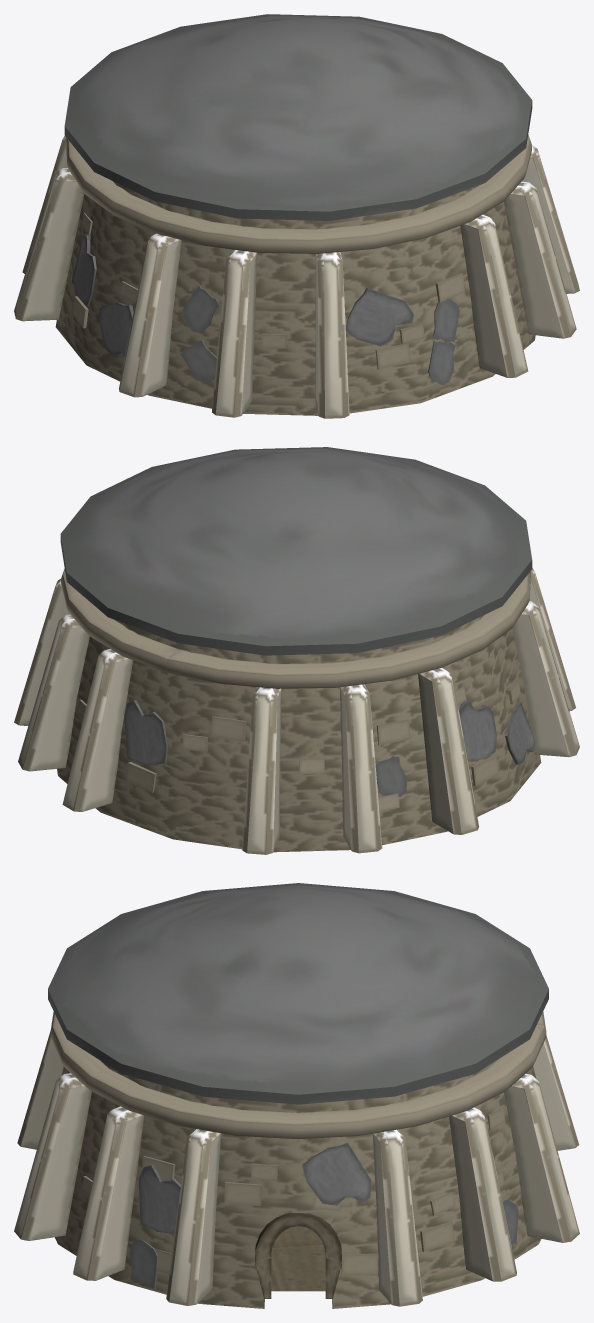
The model's file is hub.fbx.
3 views of the same model, one above another, from view 1: azimuth 30°, elevation 25°; view 2: azimuth 150°, elevation 25°; view 3: azimuth 270°, elevation 25° (orthographic). The views are drawn at different scales.
Visible parts, largest first — view 1: hub; view 2: hub; view 3: hub.
Part boxes in pixels (box(x1,y1,x2,y2)): hub: box(14, 14, 579, 418); hub: box(14, 447, 579, 854); hub: box(14, 883, 579, 1308).
Bounding box in the file's own units: 1741 × 979 × 1744.
1 material, 1 textured.
